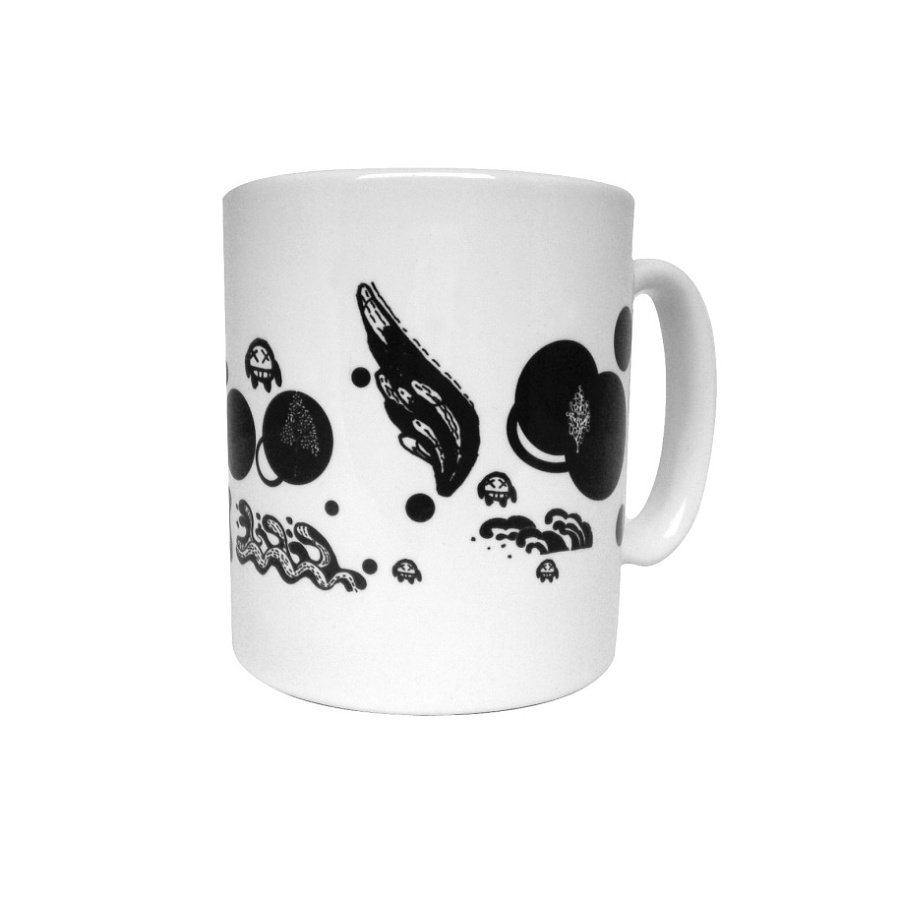cup: (216, 163, 719, 716)
